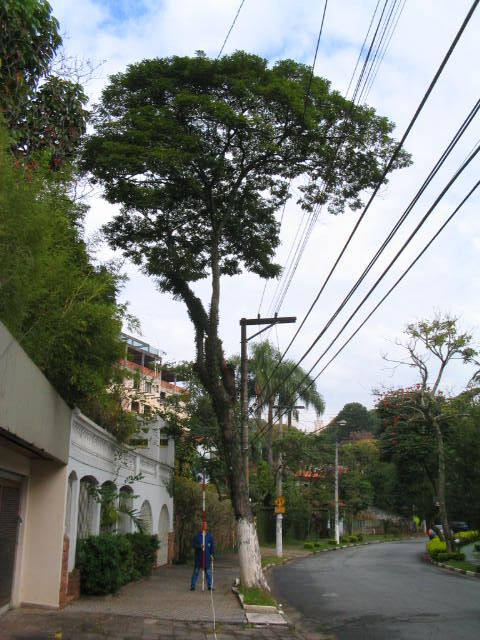crown: (83, 52, 415, 303)
stem: (193, 372, 273, 590)
stick: (191, 472, 215, 591)
tree: (81, 51, 416, 591), (370, 305, 477, 554)
